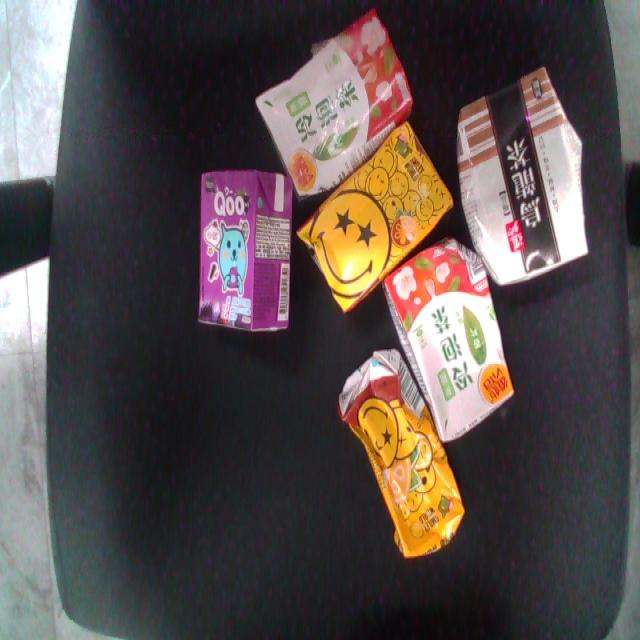juicebox: (427, 37, 624, 328), (304, 333, 506, 595), (264, 106, 494, 331), (367, 207, 545, 461), (188, 161, 303, 341)
